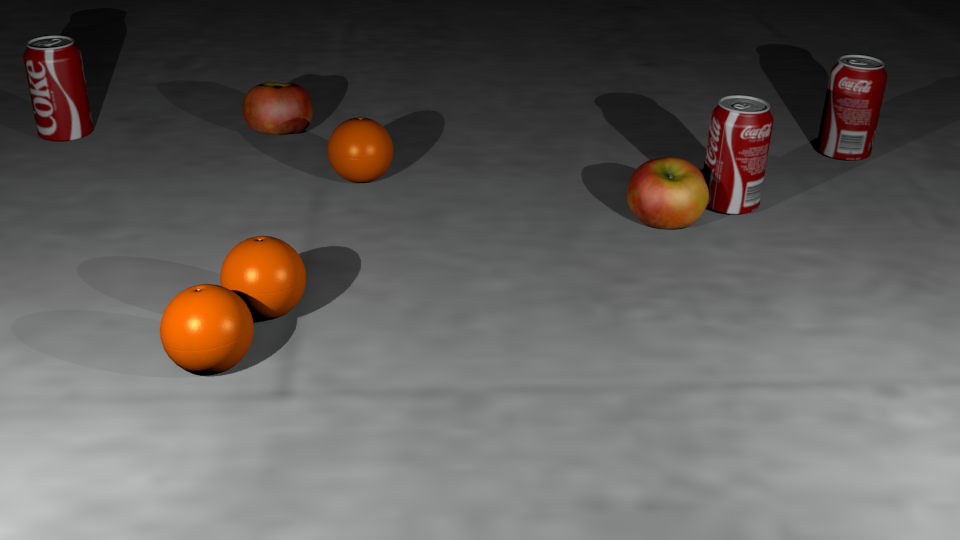apple: (628, 159, 709, 228), (244, 85, 312, 134)
cola_can: (701, 96, 774, 214), (820, 56, 886, 162), (27, 37, 91, 143)
orange: (160, 285, 254, 370), (221, 237, 306, 317), (328, 119, 393, 181)
